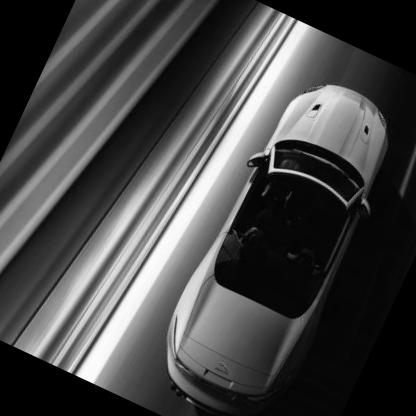car: (155, 64, 416, 416)
